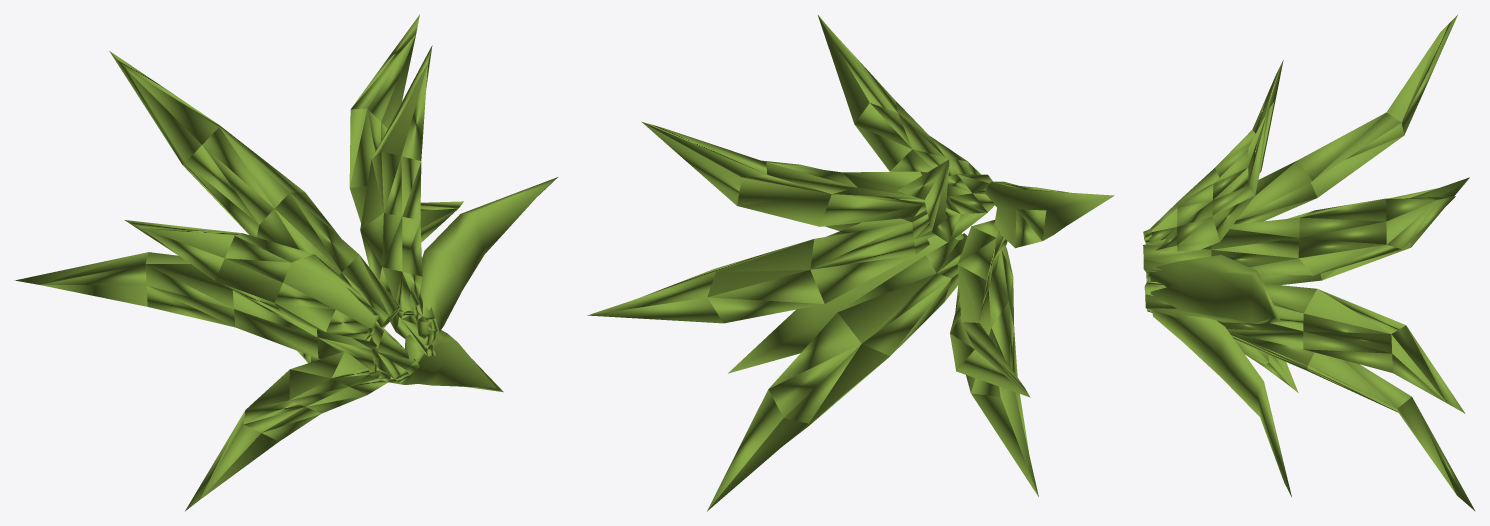
The model's file is Bush_type1.FBX.
3 views of the same model, side by side, from view 1: azimuth 30°, elevation 25°; view 2: azimuth 150°, elevation 25°; view 3: azimuth 270°, elevation 25° (orthographic). The views are drawn at different scales.
Visible parts, largest first — view 1: Derevo_type1_01; view 2: Derevo_type1_01; view 3: Derevo_type1_01.
Boxes of the visible parts, bbox=[...] form: Derevo_type1_01: bbox=[14, 14, 557, 511]; Derevo_type1_01: bbox=[587, 15, 1114, 511]; Derevo_type1_01: bbox=[1143, 15, 1475, 511].
Size of the model in its own units: 90.24 by 81.81 by 60.49.
